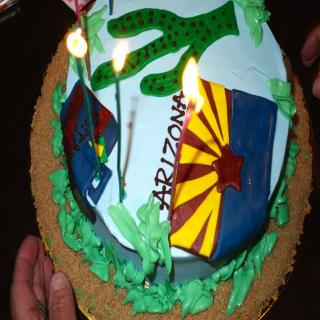Cake: (28, 0, 314, 320)
